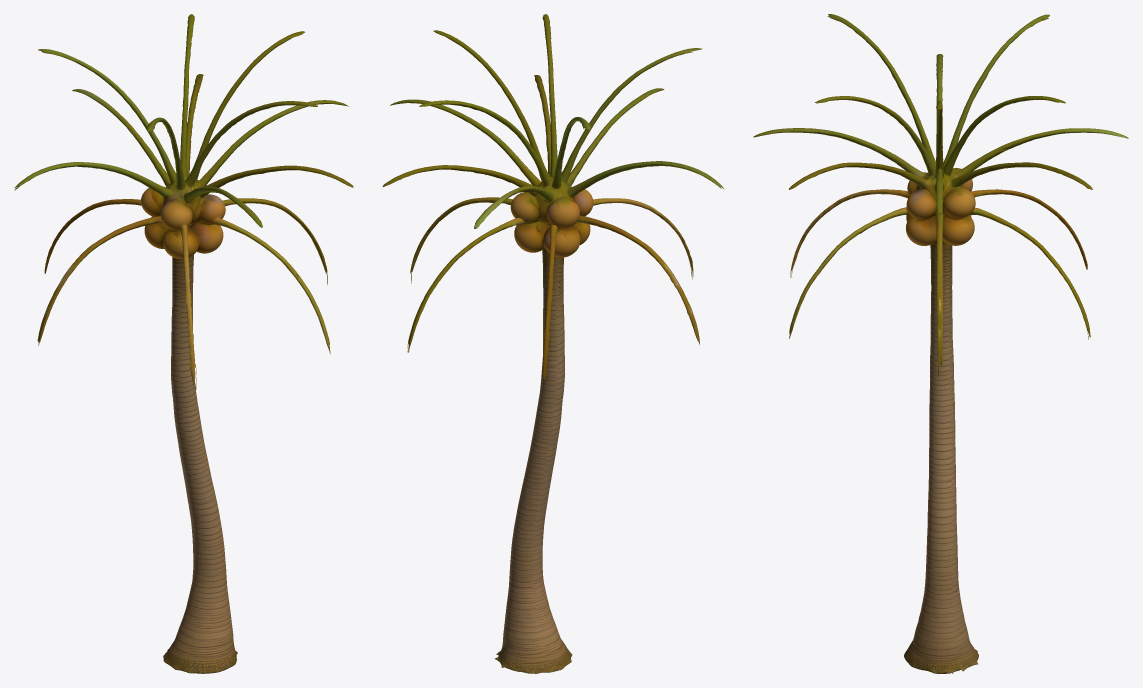
File: coqueiro.glb
3 views of the same model, side by side, from view 1: azimuth 30°, elevation 25°; view 2: azimuth 150°, elevation 25°; view 3: azimuth 270°, elevation 25° (orthographic).
Parts seen in each view (by area): view 1: material; view 2: material; view 3: material.
Boxes of the visible parts, left/top/right/bottom form: material: left=14, top=14, right=353, bottom=673; material: left=382, top=14, right=723, bottom=673; material: left=753, top=14, right=1128, bottom=673.
Bounding box in the file's own units: 0.6377 × 1.1 × 0.6248.
1 material, 1 textured.
